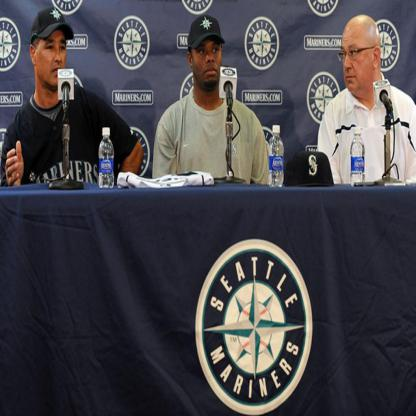face: (344, 36, 374, 93), (38, 34, 67, 87), (194, 41, 221, 88)
